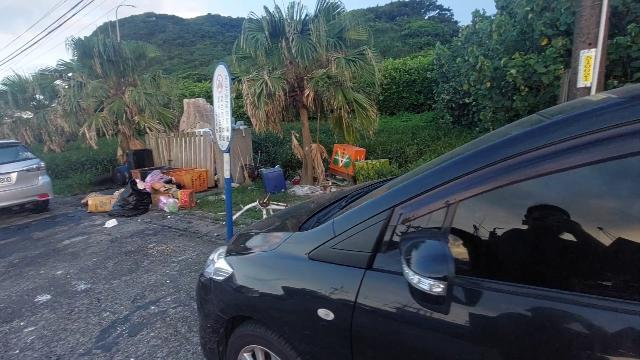pollute: (79, 164, 208, 228), (290, 143, 367, 195), (232, 199, 291, 220), (259, 167, 286, 192)
